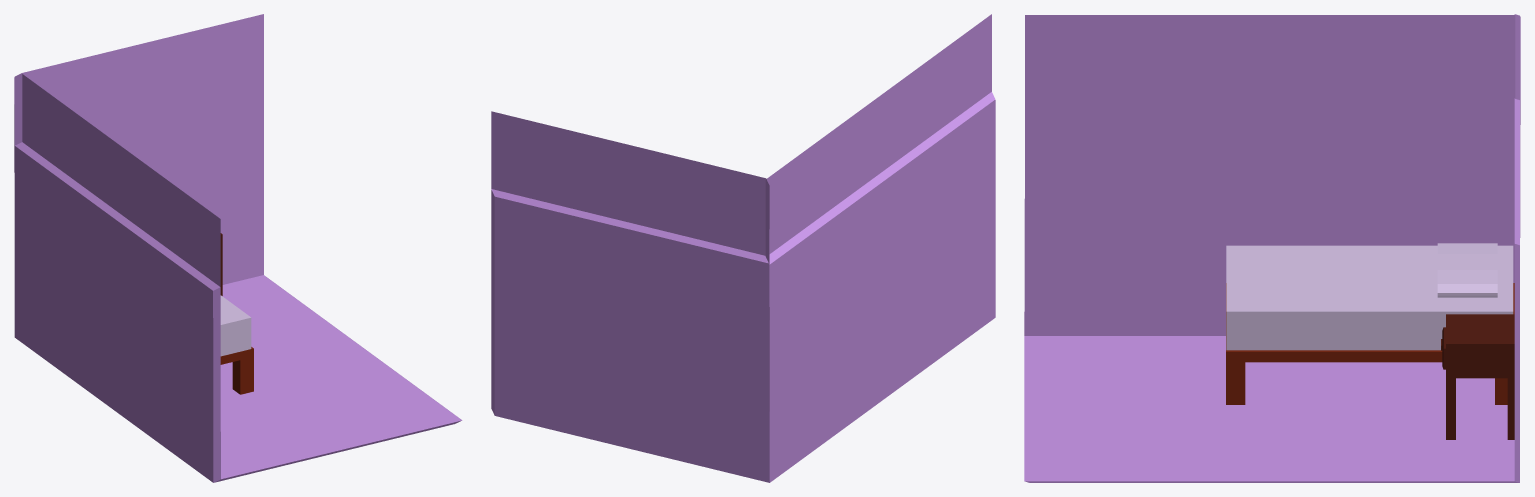
Rendered from ROOMRA.glb.
3 views of the same model, side by side, from view 1: azimuth 30°, elevation 25°; view 2: azimuth 150°, elevation 25°; view 3: azimuth 270°, elevation 25° (orthographic). The views are drawn at different scales.
Parts seen in each view (by area): view 1: Plano, Cubo.003, Cubo; view 2: Plano; view 3: Plano, Cubo.003, Cubo.001, Cubo, Cubo.004.
Boxes of the visible parts, x1=… form: Plano: x1=14, y1=14, x2=462, y2=482; Cubo.003: x1=220, y1=295, x2=251, y2=356; Cubo: x1=220, y1=347, x2=253, y2=394; Plano: x1=491, y1=14, x2=995, y2=482; Plano: x1=1024, y1=14, x2=1520, y2=482; Cubo.003: x1=1226, y1=245, x2=1513, y2=350; Cubo.001: x1=1441, y1=314, x2=1514, y2=439; Cubo: x1=1226, y1=283, x2=1514, y2=404; Cubo.004: x1=1437, y1=243, x2=1497, y2=297.
Bounding box in the file's own units: 13.45 × 13.79 × 18.97.
